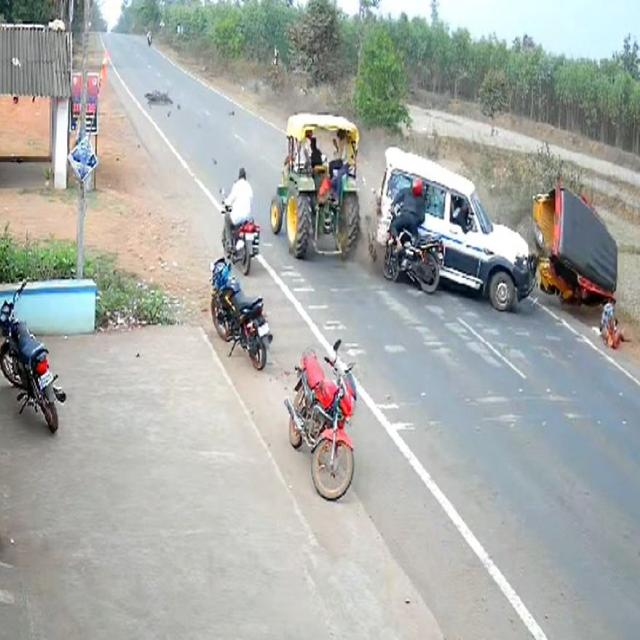accident: (376, 146, 536, 310), (532, 185, 618, 299), (384, 179, 444, 292)
motorcycle: (285, 341, 358, 500), (0, 280, 65, 433), (211, 258, 271, 370), (224, 167, 259, 273)
truck: (270, 114, 360, 258)
